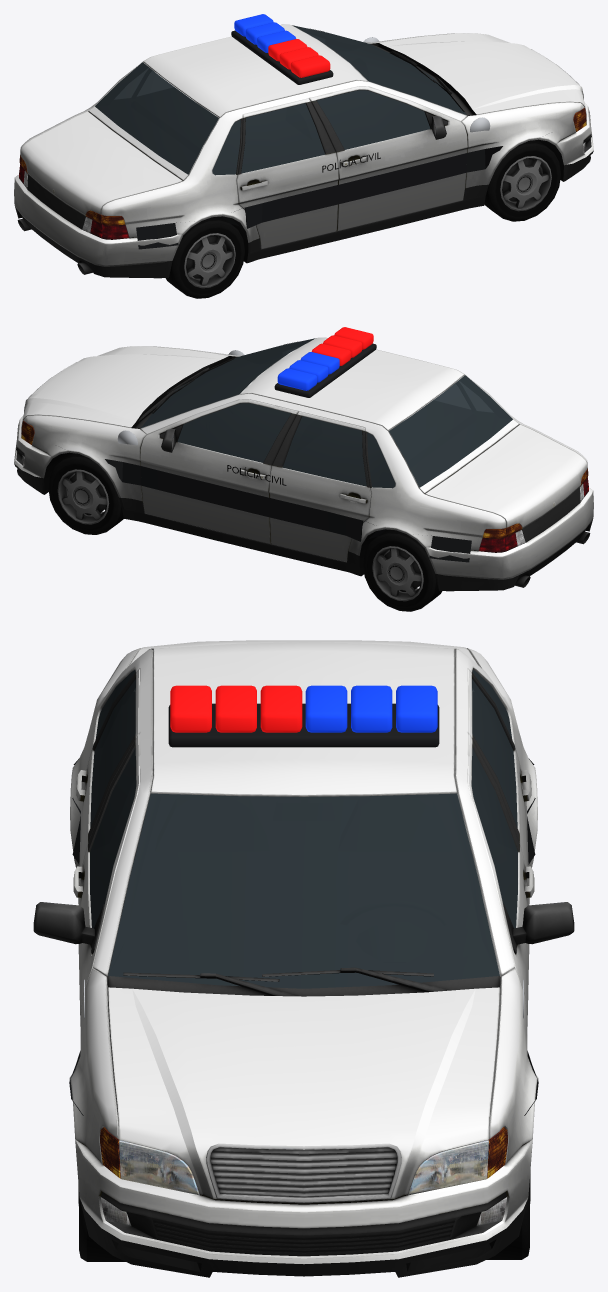
Rendered from viatura_pronta.glb.
The picture shows the model from 3 angles, top to bottom: view 1: azimuth 30°, elevation 25°; view 2: azimuth 150°, elevation 25°; view 3: azimuth 270°, elevation 25°; orthographic projection. The views are drawn at different scales.
Parts seen in each view (by area): view 1: Viatura_PC_Carroceria, Viatura_PC_Listra.001, Viatura_PC_Roda_TD, Viatura_PC_Roda_DD, Giroflex_Base, Giroflex_Lente_1, Giroflex_Lente_5, Giroflex_Lente_3, Giroflex_Lente_2, Giroflex_Lente_4, Giroflex_Lente_6; view 2: Viatura_PC_Carroceria, Viatura_PC_Listra, Viatura_PC_Roda_TE, Viatura_PC_Roda_DE, Giroflex_Base, Giroflex_Lente_6, Giroflex_Lente_2, Giroflex_Lente_4, Giroflex_Lente_1, Giroflex_Lente_3, Giroflex_Lente_5; view 3: Viatura_PC_Carroceria, Giroflex_Base, Giroflex_Lente_3, Giroflex_Lente_4, Giroflex_Lente_1, Giroflex_Lente_2, Giroflex_Lente_5, Giroflex_Lente_6, Viatura_PC_Roda_DD, Viatura_PC_Roda_DE.
Part boxes in pixels (x1=…): Viatura_PC_Carroceria: x1=14, y1=24, x2=593, y2=278; Viatura_PC_Listra.001: x1=136, y1=146, x2=502, y2=249; Viatura_PC_Roda_TD: x1=165, y1=216, x2=244, y2=298; Viatura_PC_Roda_DD: x1=484, y1=140, x2=560, y2=221; Giroflex_Base: x1=231, y1=30, x2=333, y2=84; Giroflex_Lente_1: x1=290, y1=55, x2=330, y2=77; Giroflex_Lente_5: x1=245, y1=22, x2=284, y2=44; Giroflex_Lente_3: x1=268, y1=39, x2=307, y2=61; Giroflex_Lente_2: x1=279, y1=47, x2=318, y2=69; Giroflex_Lente_4: x1=257, y1=30, x2=296, y2=52; Giroflex_Lente_6: x1=234, y1=14, x2=273, y2=36; Viatura_PC_Carroceria: x1=14, y1=337, x2=593, y2=591; Viatura_PC_Listra: x1=105, y1=459, x2=471, y2=562; Viatura_PC_Roda_TE: x1=363, y1=529, x2=442, y2=611; Viatura_PC_Roda_DE: x1=48, y1=453, x2=123, y2=534; Giroflex_Base: x1=274, y1=343, x2=376, y2=397; Giroflex_Lente_6: x1=277, y1=368, x2=317, y2=390; Giroflex_Lente_2: x1=323, y1=335, x2=362, y2=357; Giroflex_Lente_4: x1=300, y1=352, x2=339, y2=374; Giroflex_Lente_1: x1=334, y1=327, x2=373, y2=349; Giroflex_Lente_3: x1=311, y1=343, x2=350, y2=365; Giroflex_Lente_5: x1=289, y1=360, x2=328, y2=382; Viatura_PC_Carroceria: x1=33, y1=640, x2=574, y2=1277; Giroflex_Base: x1=168, y1=703, x2=439, y2=747; Giroflex_Lente_3: x1=260, y1=685, x2=302, y2=732; Giroflex_Lente_4: x1=305, y1=685, x2=347, y2=732; Giroflex_Lente_1: x1=170, y1=685, x2=211, y2=732; Giroflex_Lente_2: x1=215, y1=685, x2=256, y2=732; Giroflex_Lente_5: x1=351, y1=685, x2=392, y2=732; Giroflex_Lente_6: x1=396, y1=685, x2=437, y2=732; Viatura_PC_Roda_DD: x1=78, y1=1183, x2=125, y2=1261; Viatura_PC_Roda_DE: x1=486, y1=1171, x2=530, y2=1259.
Bounding box in the file's own units: 4.71 × 1.59 × 2.1.
13 materials, 6 textured.
